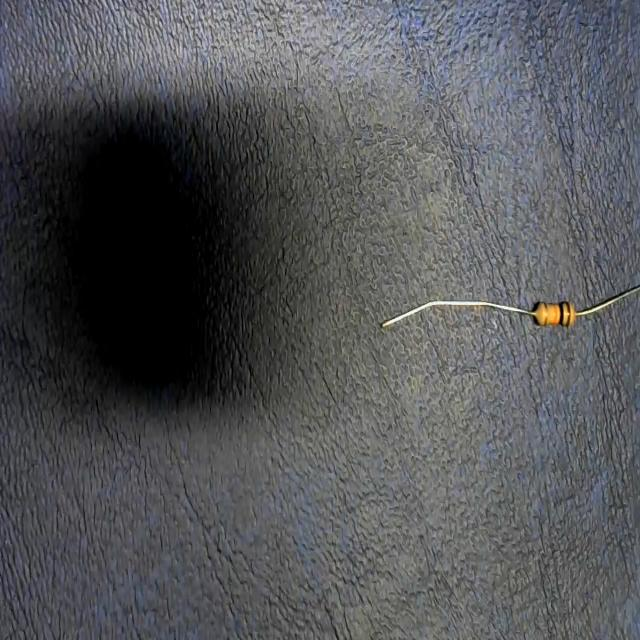resistor: (382, 284, 640, 336)
